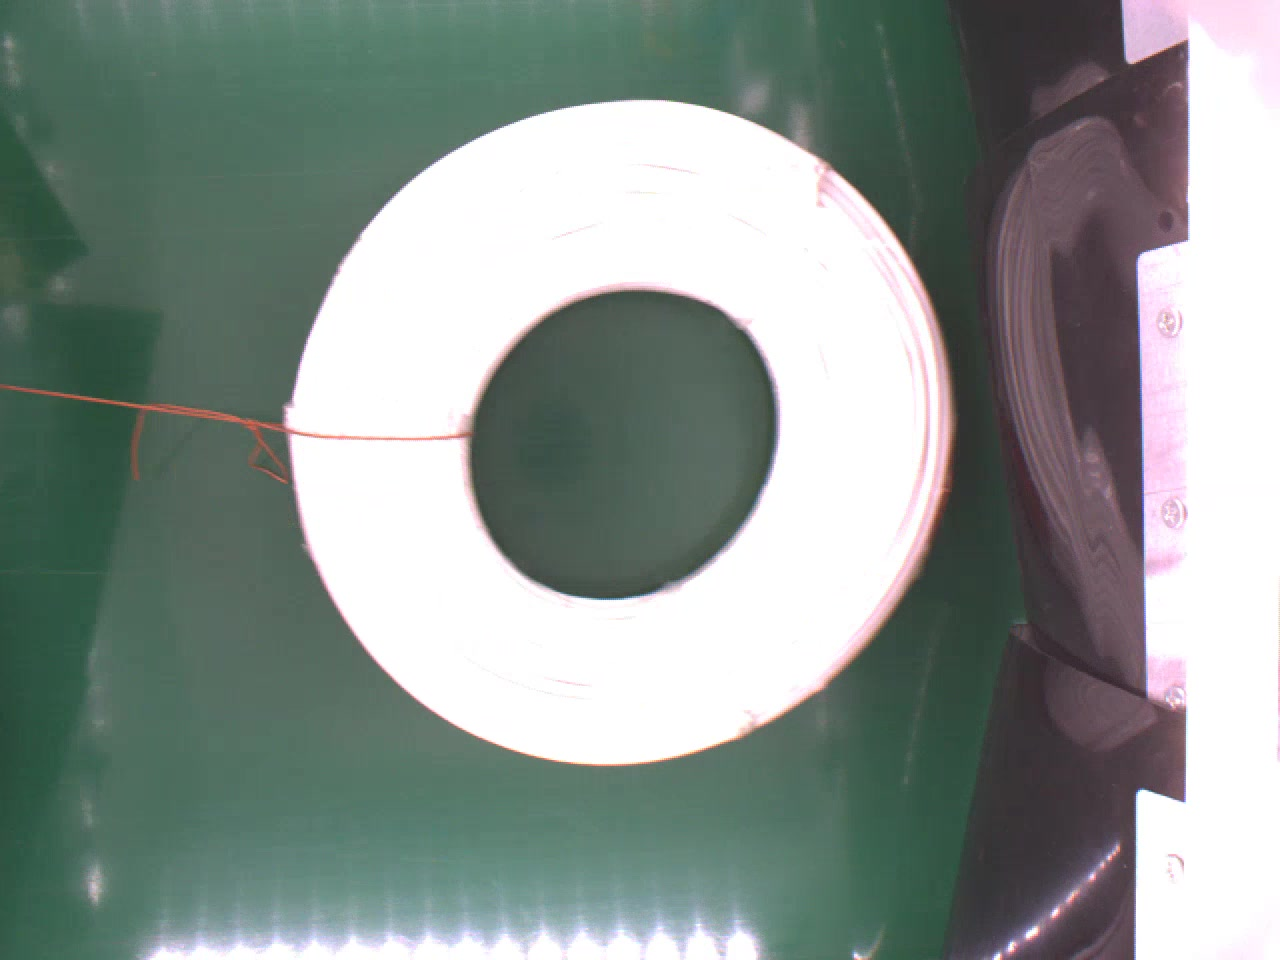white: (284, 94, 965, 767)
